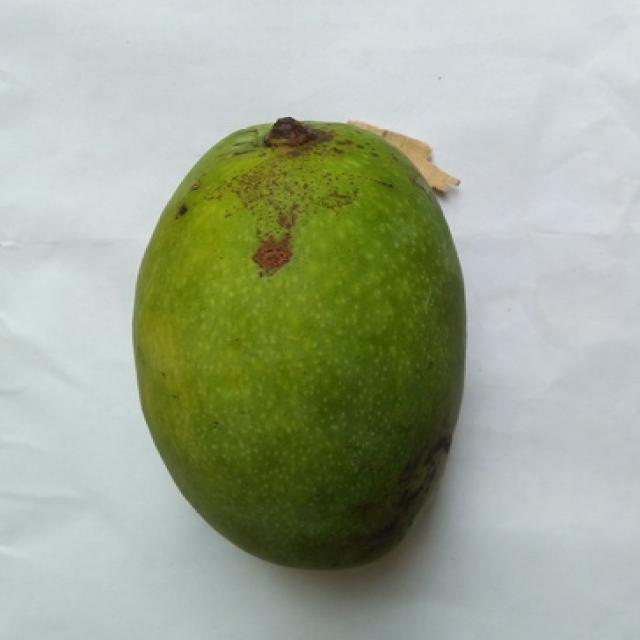Mango: (134, 117, 462, 566)
